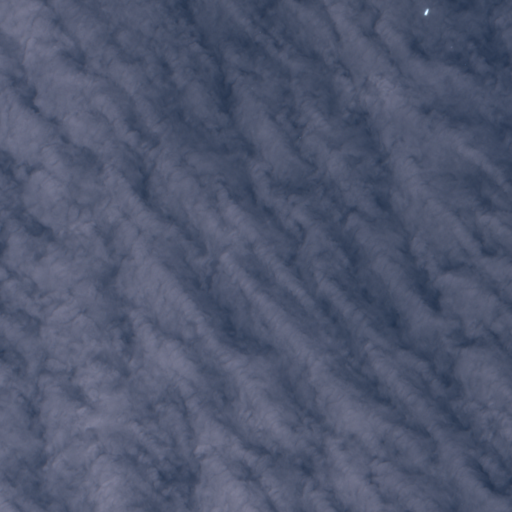Iceberg: (424, 8, 428, 15)
